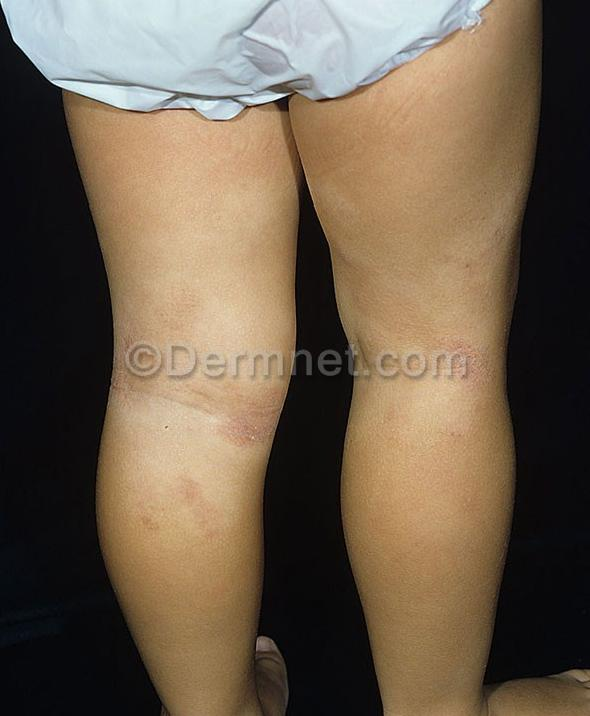xerosis 1: (107, 319, 149, 416), (221, 399, 287, 451), (436, 335, 493, 388)
